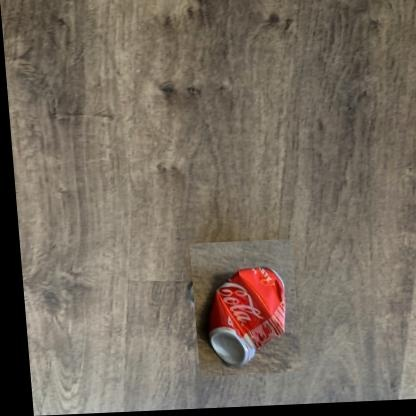trash: (209, 267, 284, 366)
